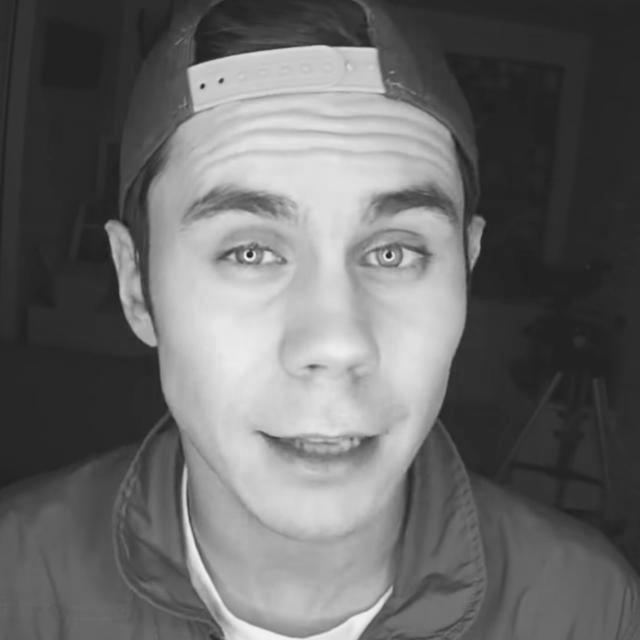real: (165, 131, 462, 532)
